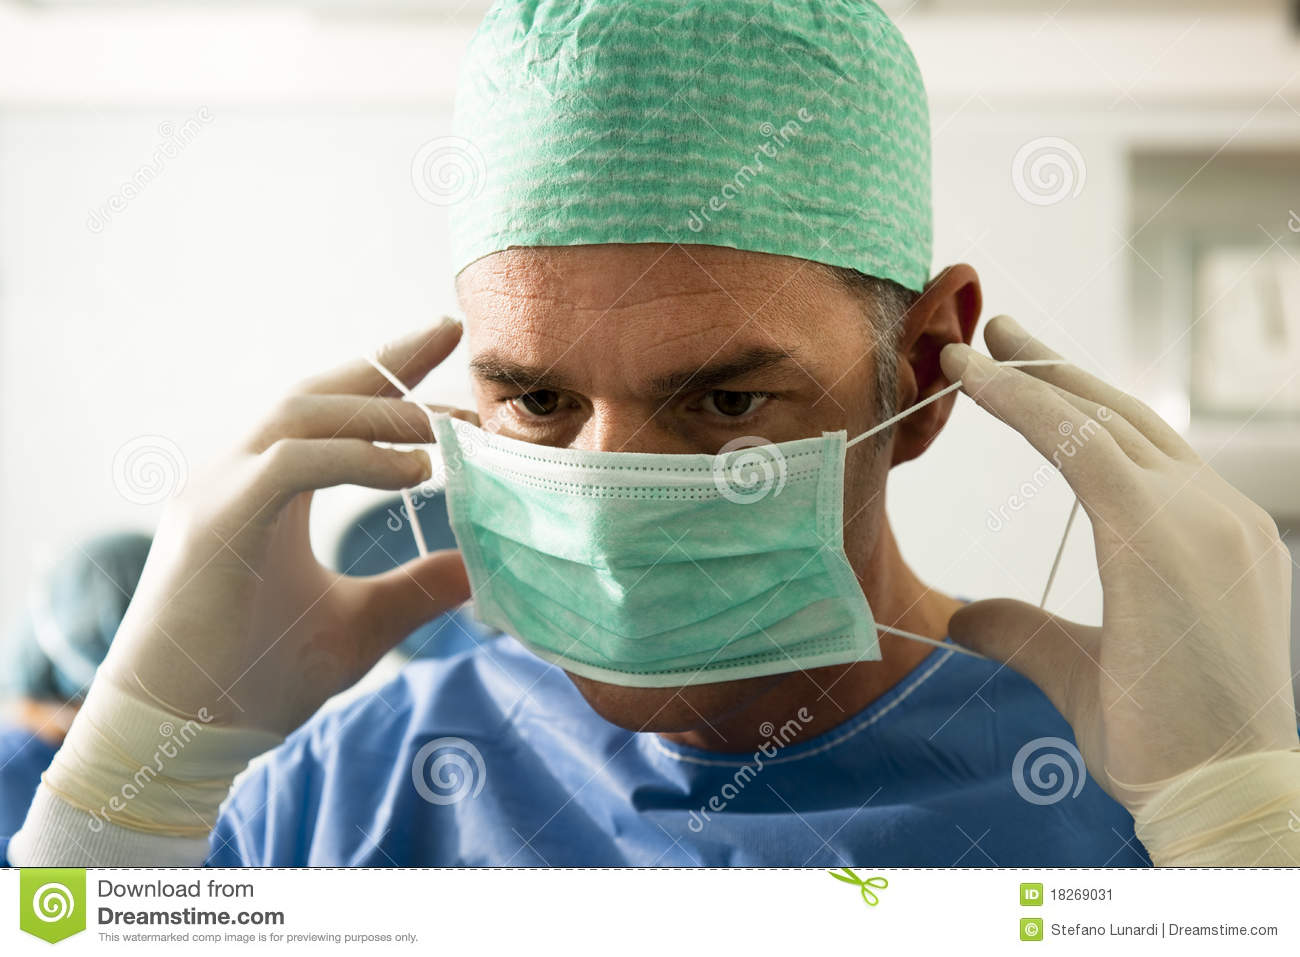mask: (435, 413, 888, 702)
